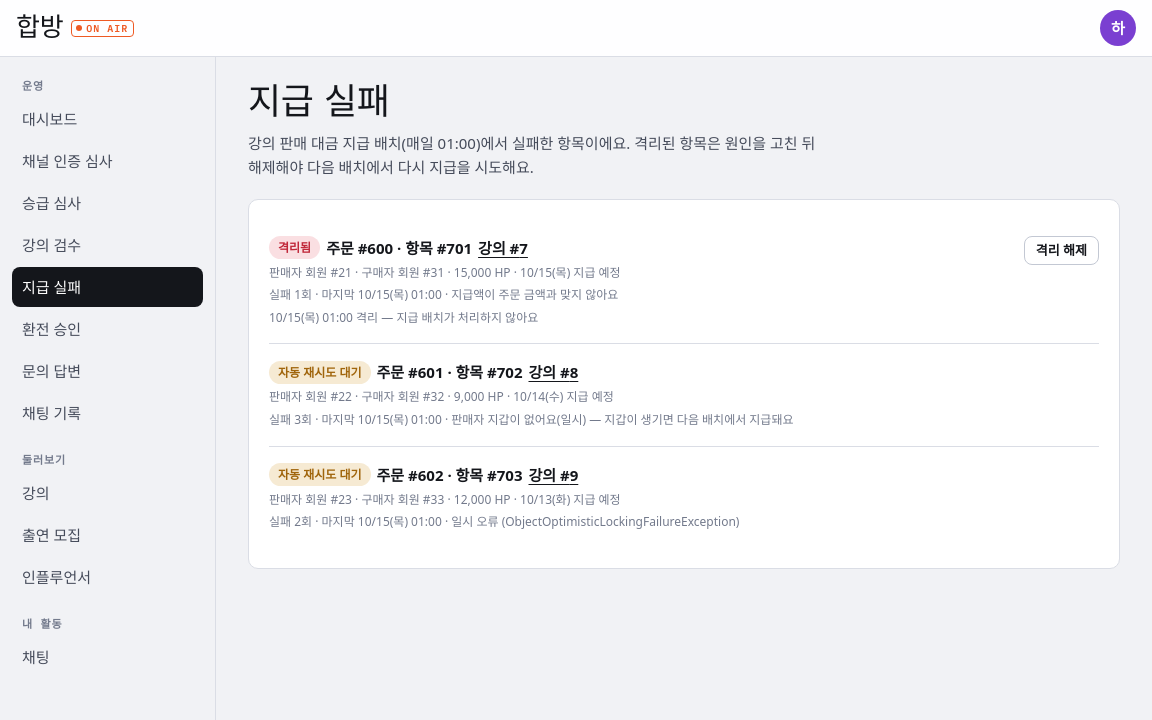
Test: 관리자 지급 실패 › 없는 항목이면(404) 안내한다
What coordinates should you click on to do the following:
click the button "격리 해제"
I would click on:
 (1061, 250)
Its box is [1024,236,1099,265].
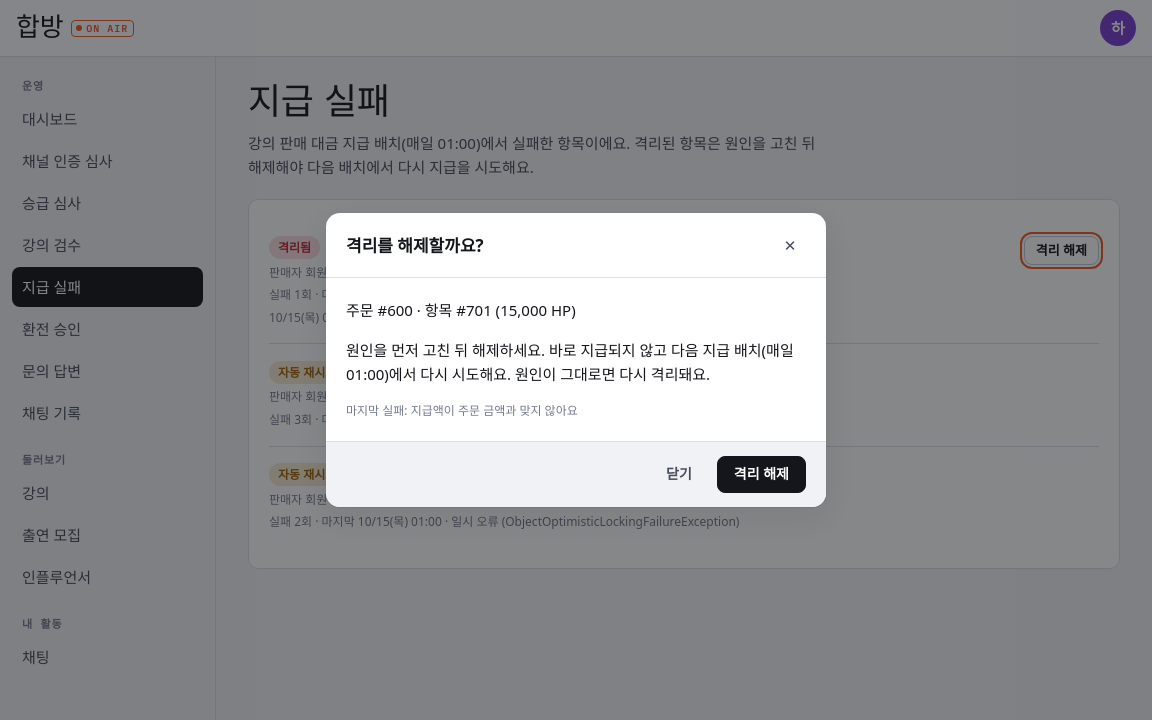
What coordinates should you click on to do the following:
click the button "격리 해제"
I would click on:
 (761, 474)
Its box is [717,456,806,493].
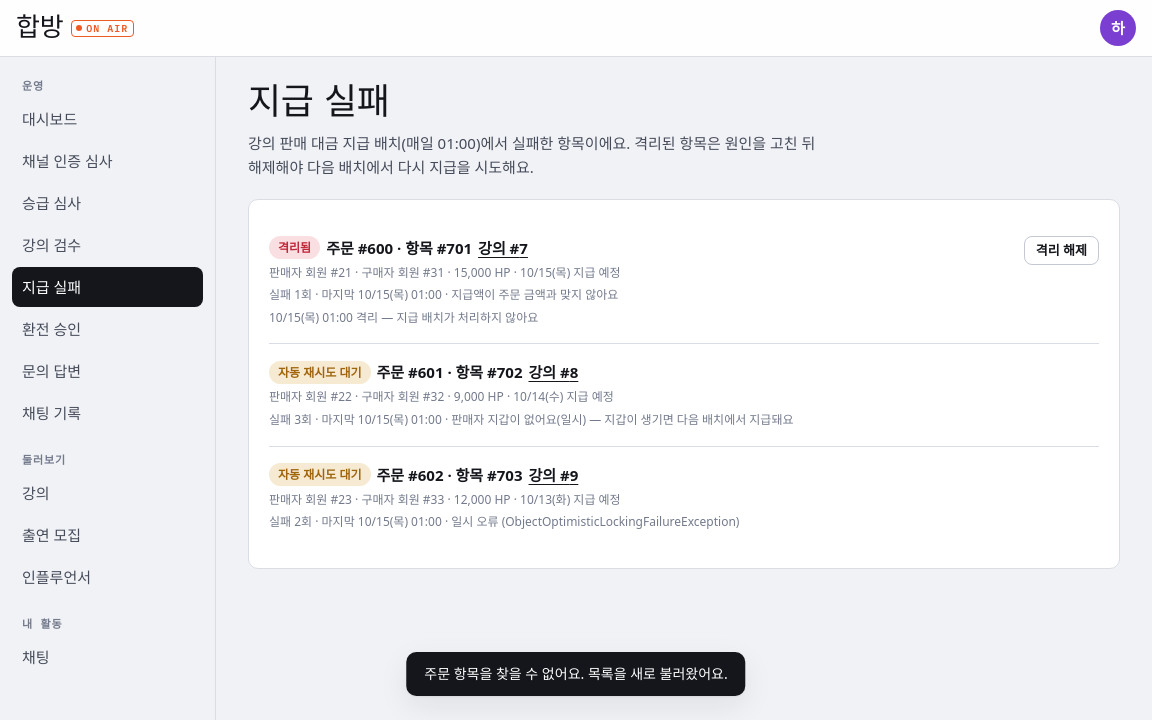
Now the text "주문 항목을 찾을 수 없어요. 목록을 새로 불러왔어요." is shown, box [406,652,746,696]
